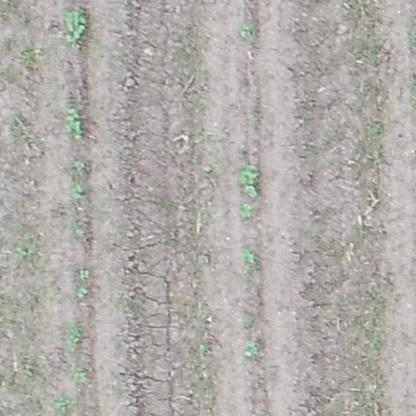vc: (235, 161, 265, 198), (63, 9, 87, 44), (65, 106, 85, 140), (72, 219, 90, 236), (237, 202, 255, 219), (244, 340, 260, 359), (241, 247, 257, 264), (74, 365, 90, 381), (239, 23, 256, 37), (72, 157, 88, 171), (75, 286, 93, 298), (70, 184, 84, 198), (79, 268, 92, 280)
